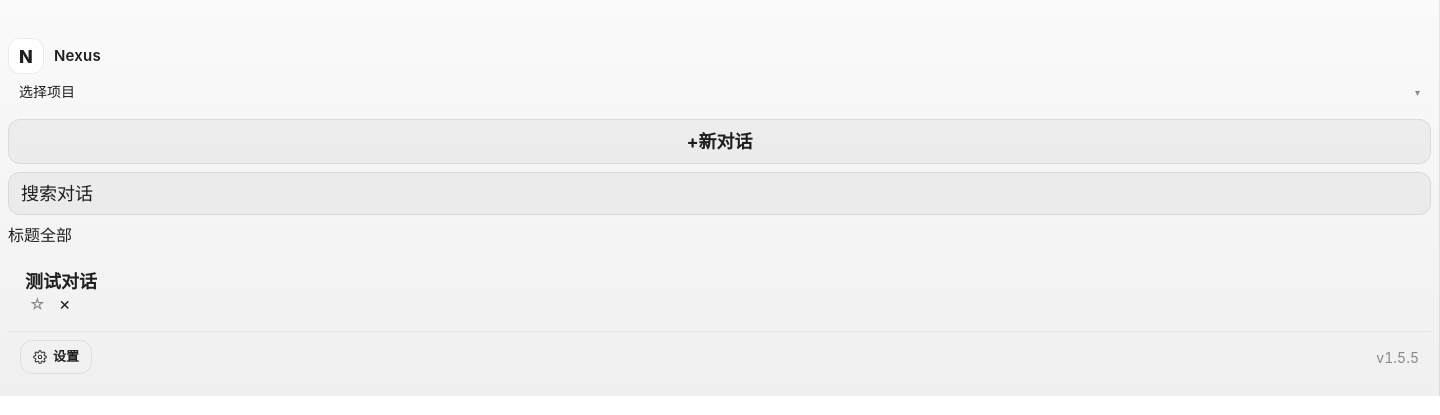
Test: Sidebar UX 第十轮(删除确认 / 重命名 / 星标分组 / 消息搜索) › 点 × → 进入确认态(出现"确定?"和"取消");点取消 → 不删
Click the button with class "delete-btn": (65, 304) [54,293,76,315]
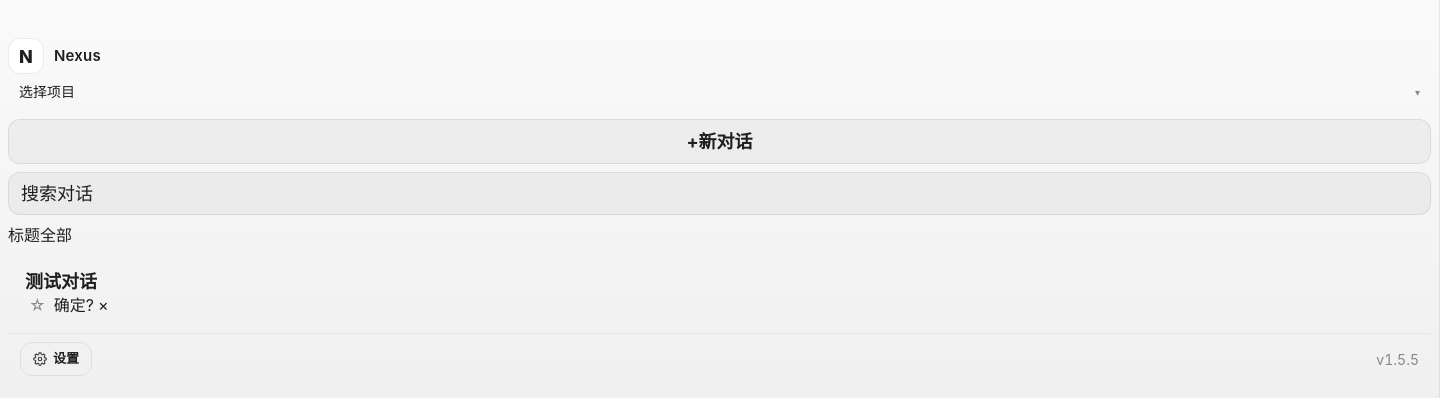
Check: the button with class "delete-confirm" is shown, box [54,293,94,317]
Check: the button with class "delete-btn" is gone
Click the button with class "delete-cancel": (103, 305) [98,293,108,317]
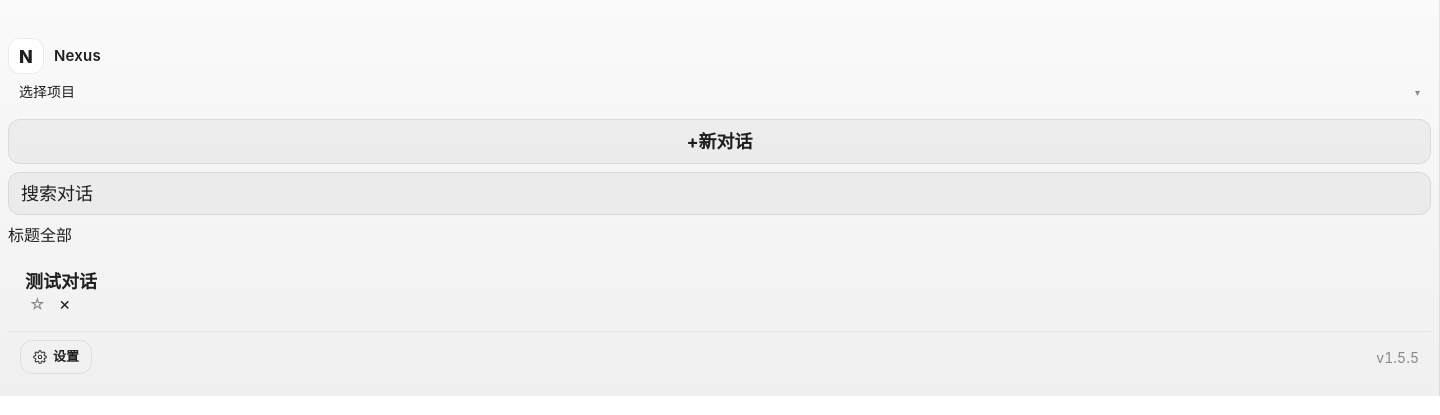
Check: the button with class "delete-btn" is shown, box [54,293,76,315]
Check: the button with class "delete-confirm" is gone
